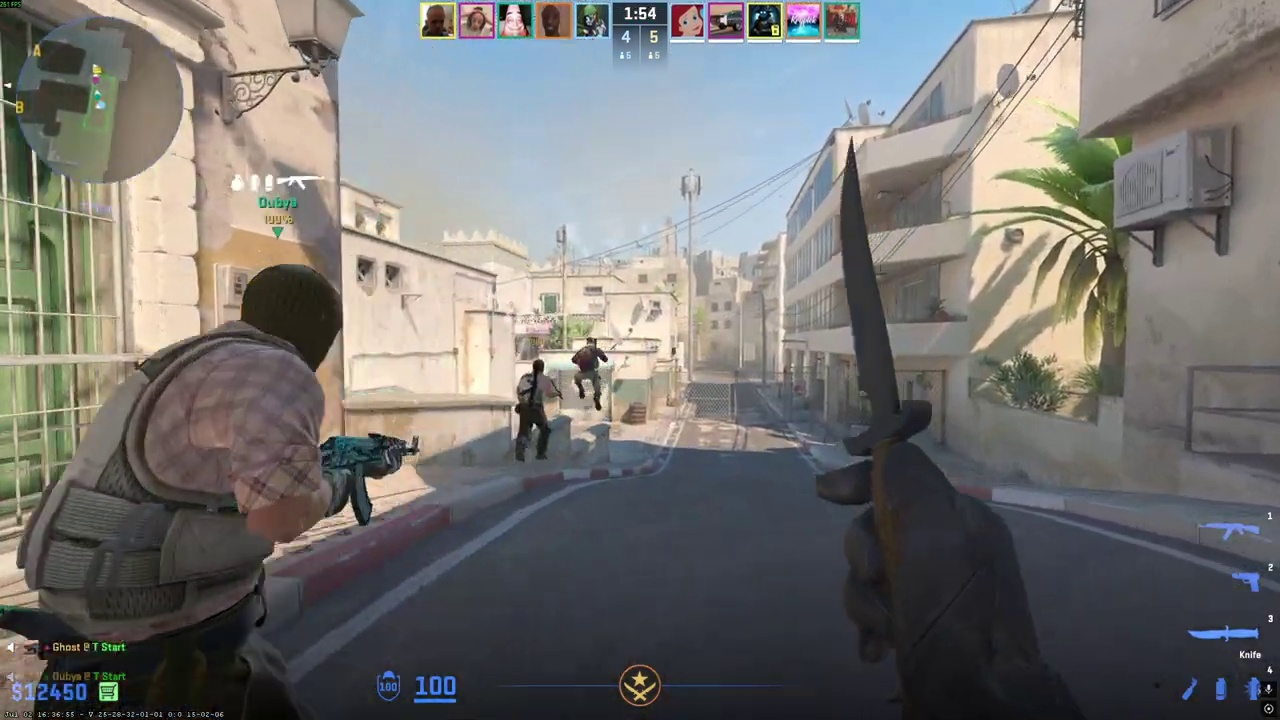Terrorist: (29, 264, 346, 720), (515, 359, 556, 462), (576, 338, 605, 411)
